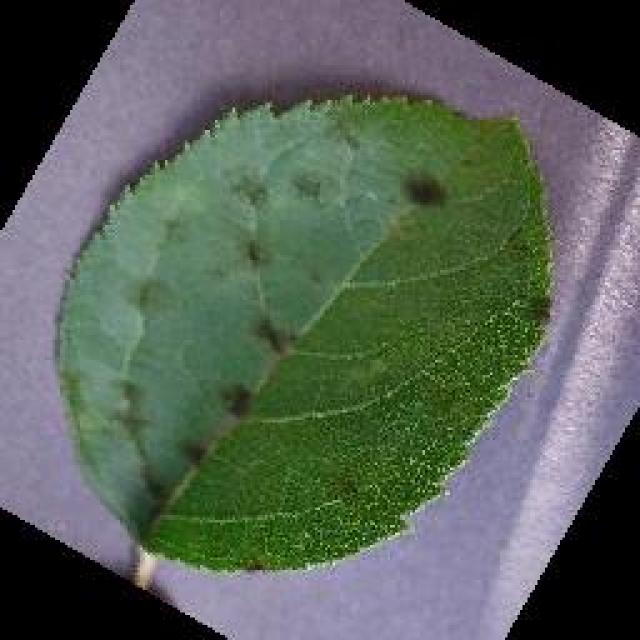apple scab disease: (50, 88, 558, 578)
